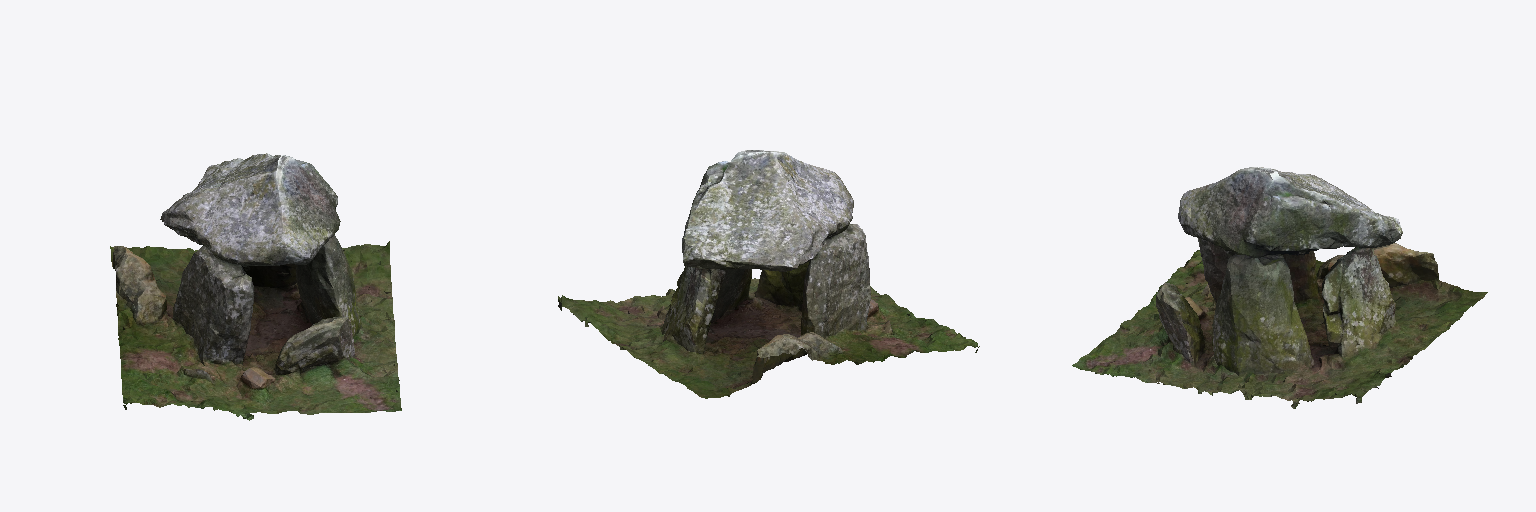
3 views of the same model, side by side, from view 1: azimuth 30°, elevation 25°; view 2: azimuth 150°, elevation 25°; view 3: azimuth 270°, elevation 25° (orthographic).
Bounding box in the file's own units: 60.79 × 32.52 × 63.58.
1 materials, 1 textured.